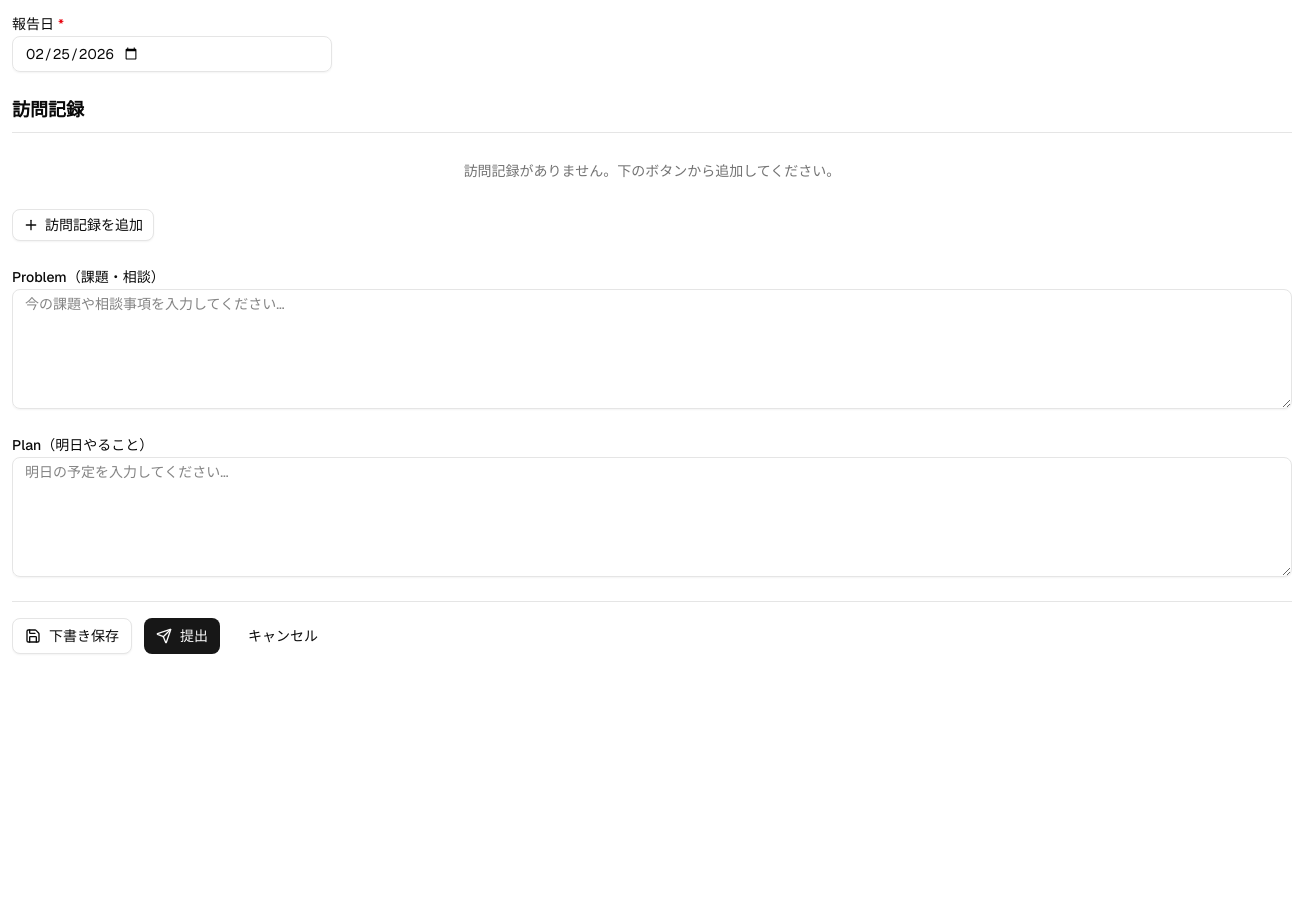
Test case: ReportForm › 「訪問記録を追加」ボタンで訪問記録行が追加される
Click the button "訪問記録を追加".
click(83, 225)  # box [12,209,154,241]
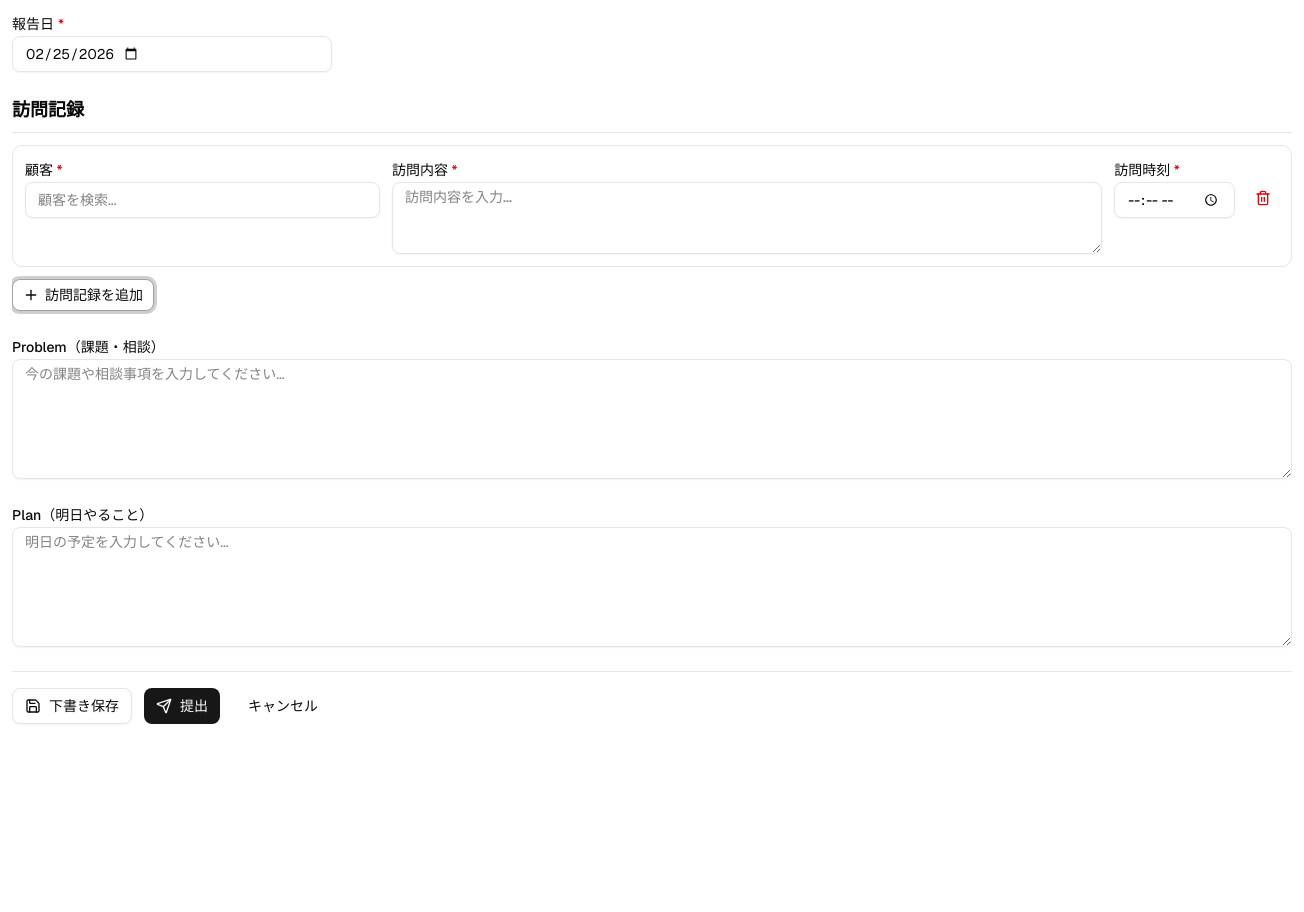
expect the text "訪問記録がありません。下のボタンから追加してください。" is gone: met
